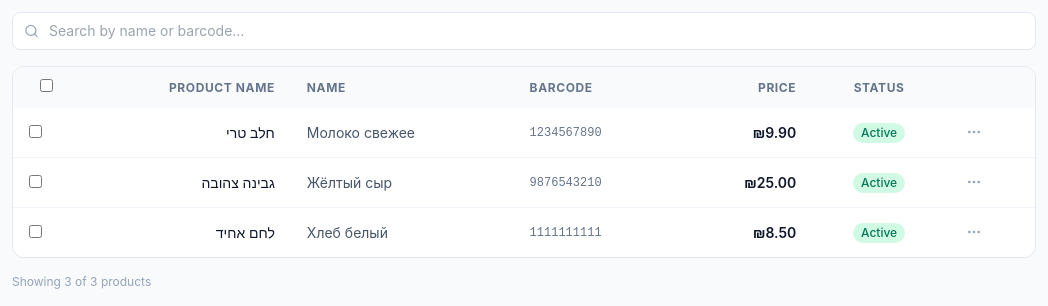
Test: ProductsTable — search filtering › shows 'No products found.' when nothing matches
The image size is (1048, 306).
Type "xyzXYZ_no_match" into the field with placeholder "Search by name or barcode…" at (524,31), box [12, 12, 1036, 50]
Wait 200 ms
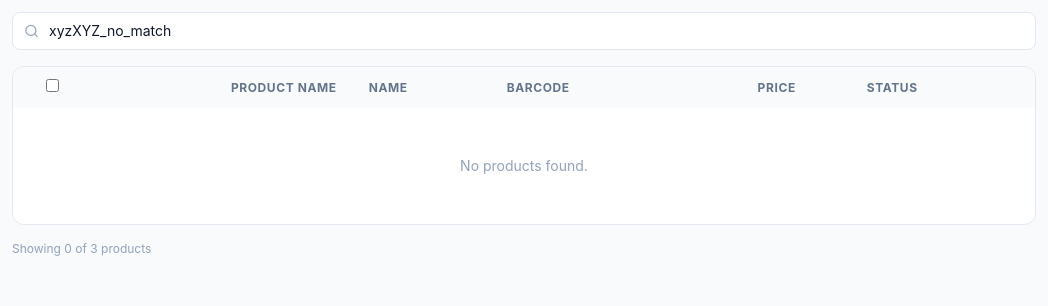
Expected: the text "No products found." is shown, [13, 108, 1035, 224]
